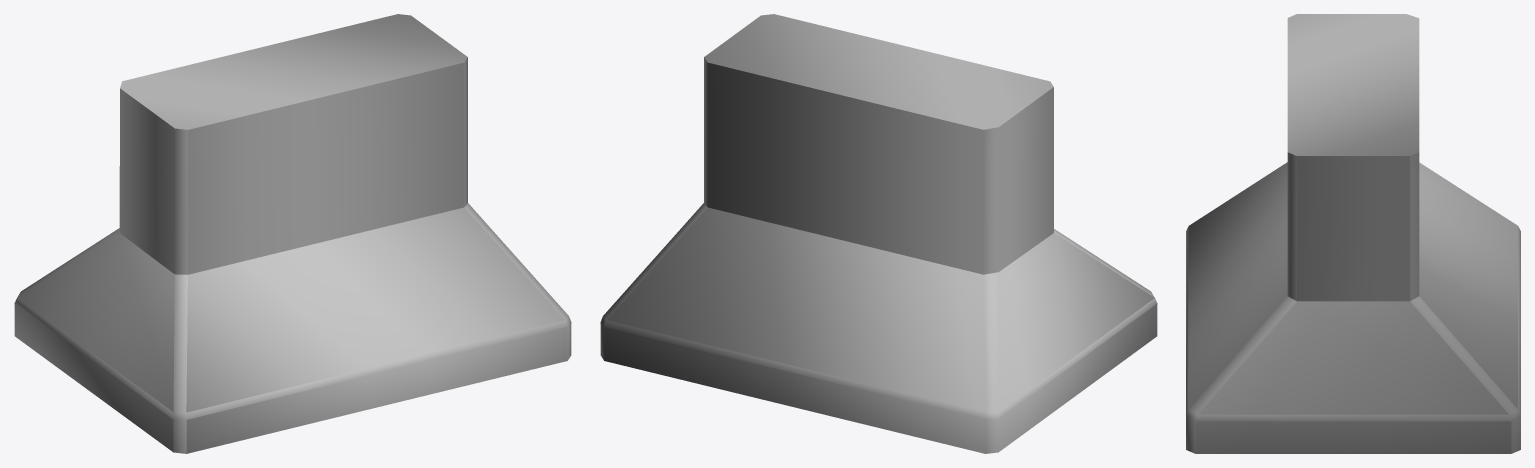
File: hood.fbx
3 renders of one model, left to right at view 1: azimuth 30°, elevation 25°; view 2: azimuth 150°, elevation 25°; view 3: azimuth 270°, elevation 25°, orthographic.
Visible parts, largest first — view 1: hood; view 2: hood; view 3: hood.
Part boxes in pixels (x1,y1,x2,y2): hood: (14,14,571,453); hood: (600,14,1157,453); hood: (1186,14,1520,453).
Bounding box in the file's own units: 1.91 × 1.25 × 1.4.
